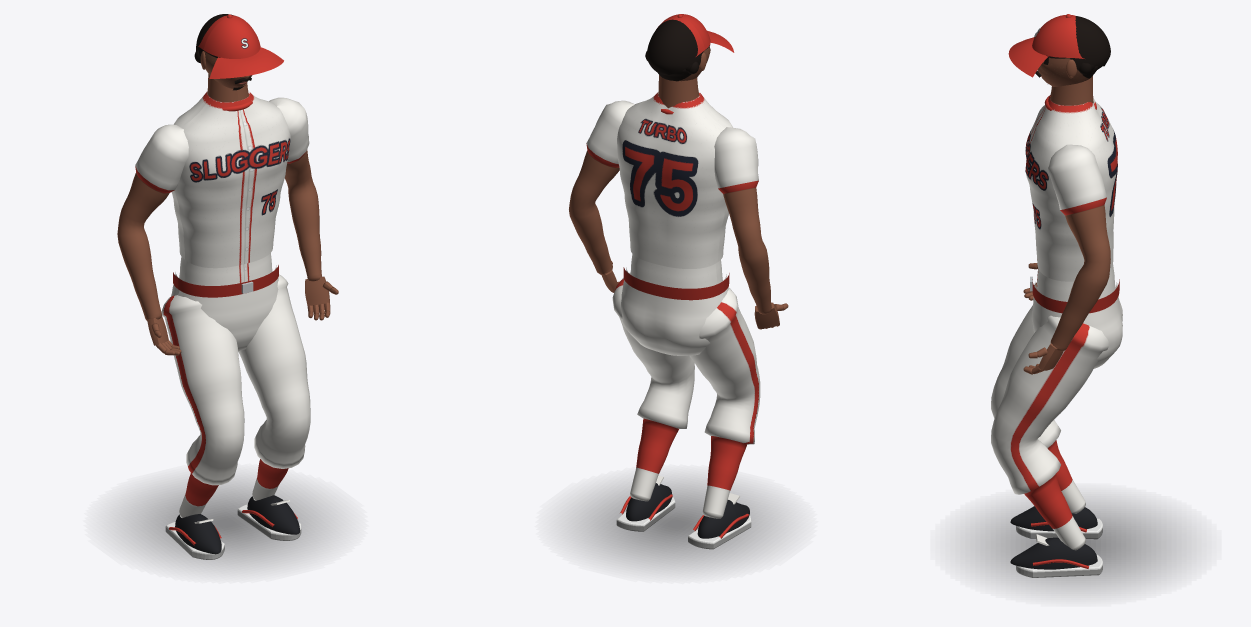
The model's file is player_02_home.glb.
3 views of the same model, side by side, from view 1: azimuth 30°, elevation 25°; view 2: azimuth 150°, elevation 25°; view 3: azimuth 270°, elevation 25° (orthographic). The views are drawn at different scales.
Parts seen in each view (by area): view 1: player_02_home, object 43, object 45, object 2; view 2: player_02_home, object 29, object 2, object 43; view 3: player_02_home, object 43, object 29, object 47, object 2, object 45.
Boxes of the visible parts, box(x1,y1,x2,y2) form: player_02_home: box(117, 91, 334, 569); object 43: box(198, 15, 260, 58); object 45: box(209, 47, 283, 78); object 2: box(207, 74, 248, 102); player_02_home: box(569, 92, 784, 569); object 29: box(647, 19, 709, 75); object 2: box(658, 75, 699, 108); object 43: box(656, 14, 710, 56); player_02_home: box(965, 95, 1186, 591); object 43: box(1032, 14, 1084, 58); object 29: box(1046, 16, 1110, 66); object 47: box(1037, 57, 1101, 86); object 2: box(1050, 76, 1093, 105); object 45: box(1008, 37, 1048, 77).
Bounding box in the file's own units: 3.3 × 6.1 × 3.3.
26 materials, 5 textured.
